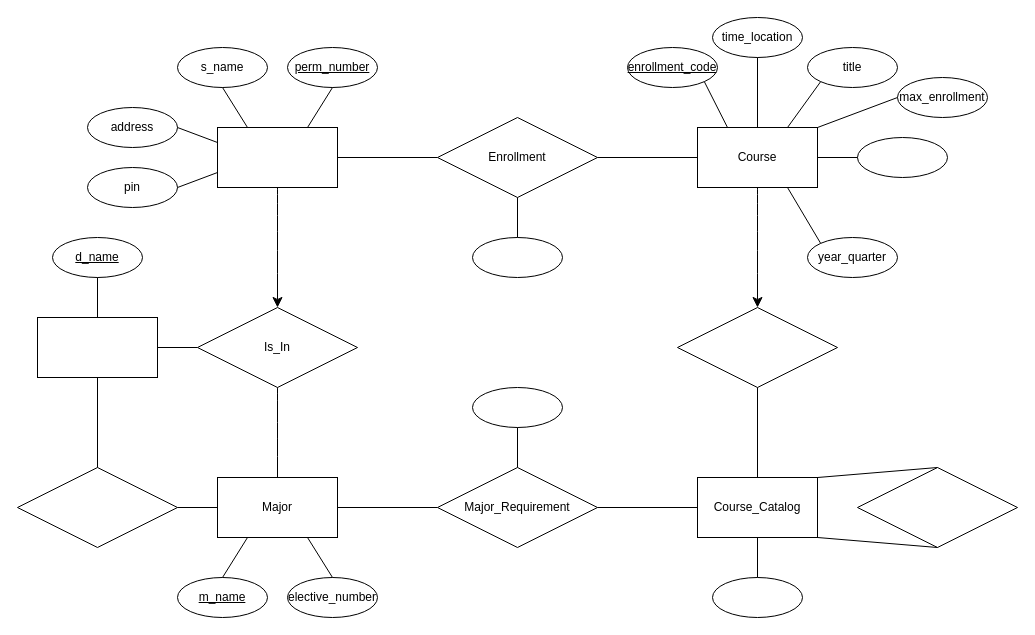
The diagram is 1035 pixels wide and 635 high, and some of its shapes have lost their labels. Each missing label, with the centre of its shape:
"course_code" belongs at point 757,597.
"Department" belongs at point 97,347.
"grade" belongs at point 517,257.
"Manages" belongs at point 97,507.
"Offering" belongs at point 757,347.
"p_name" belongs at point 902,157.
"Prerequisites" belongs at point 937,507.
"Students" belongs at point 277,157.
"type" belongs at point 517,407.
